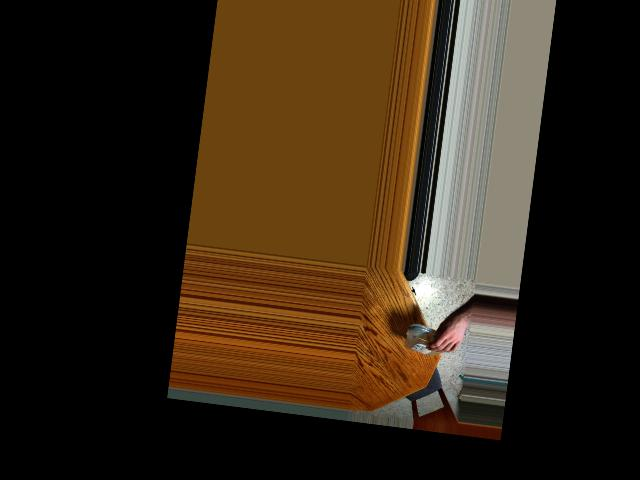cheese: (411, 320, 453, 358)
